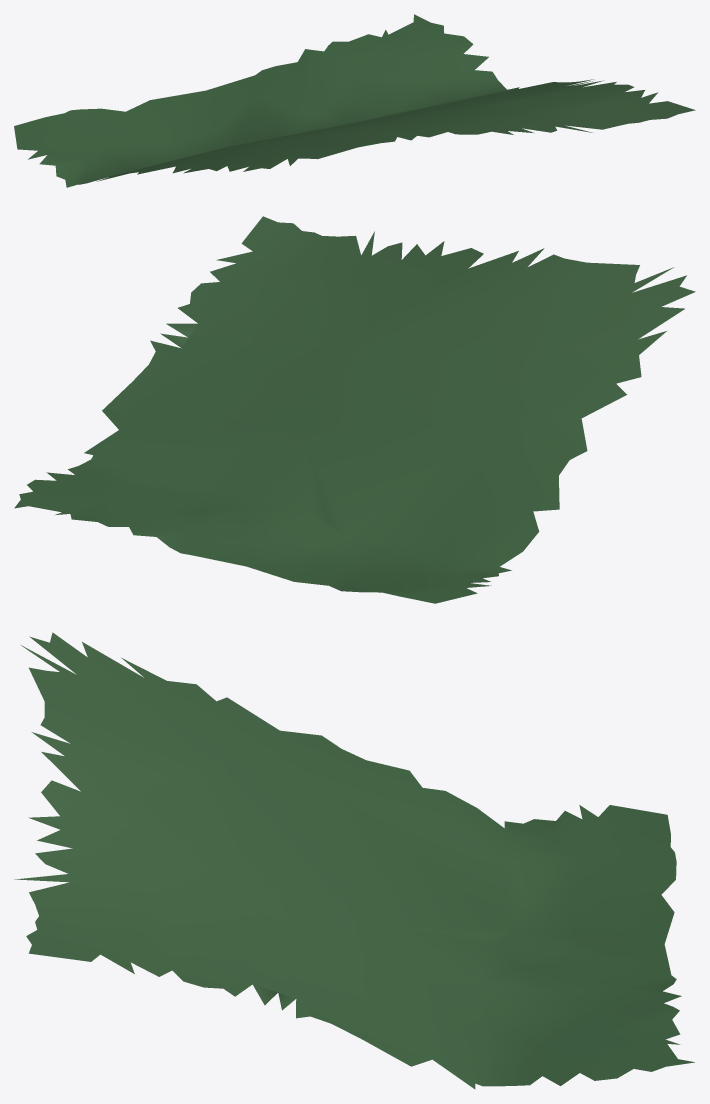
Rendered from payo_land_x3_y9_lod2.glb.
3 renders of one model, top to bottom at view 1: azimuth 30°, elevation 25°; view 2: azimuth 150°, elevation 25°; view 3: azimuth 270°, elevation 25°, orthographic. The views are drawn at different scales.
Parts seen in each view (by area): view 1: payo_land_x3_y9; view 2: payo_land_x3_y9; view 3: payo_land_x3_y9.
Boxes of the visible parts, <box> form: payo_land_x3_y9: <box>14,14,695,187</box>; payo_land_x3_y9: <box>14,216,695,603</box>; payo_land_x3_y9: <box>14,632,694,1089</box>.
Bounding box in the file's own units: 273 × 93.06 × 280.
